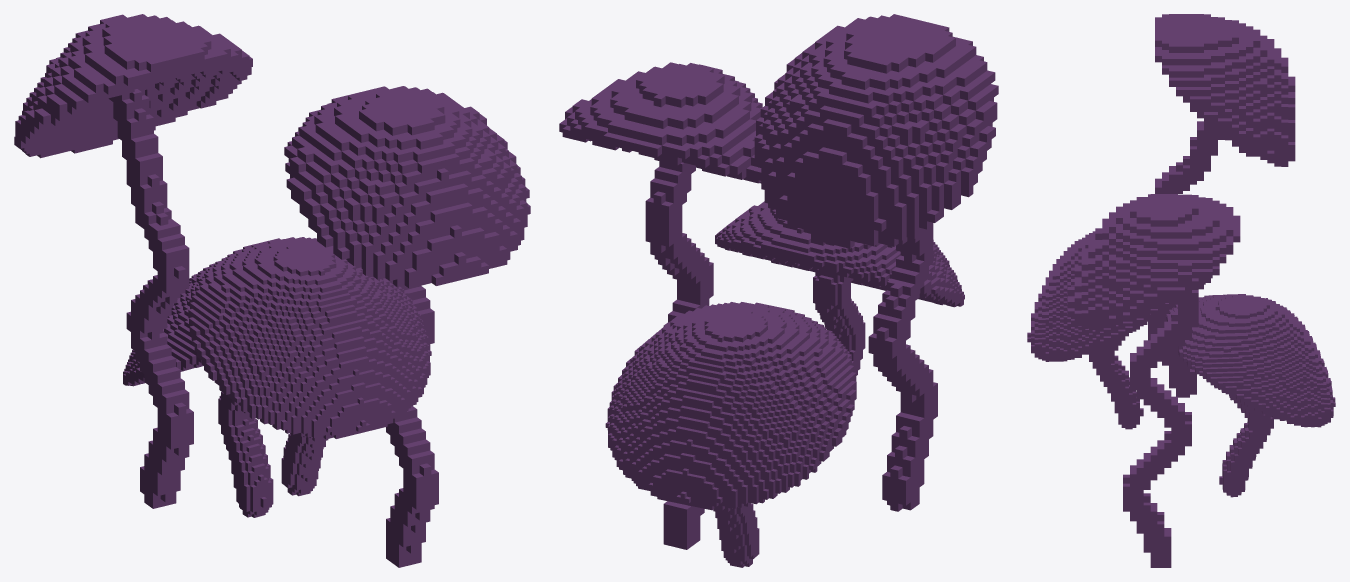
Rendered from CagamelosTiny.fbx.
3 views of the same model, side by side, from view 1: azimuth 30°, elevation 25°; view 2: azimuth 150°, elevation 25°; view 3: azimuth 270°, elevation 25° (orthographic). The views are drawn at different scales.
Visible parts, largest first — view 1: Cagamelos pequenos; view 2: Cagamelos pequenos; view 3: Cagamelos pequenos.
Boxes of the visible parts, x1=… form: Cagamelos pequenos: x1=14, y1=14, x2=530, y2=567; Cagamelos pequenos: x1=559, y1=14, x2=998, y2=567; Cagamelos pequenos: x1=1027, y1=14, x2=1335, y2=567.
Bounding box in the file's own units: 154 × 190 × 119.
